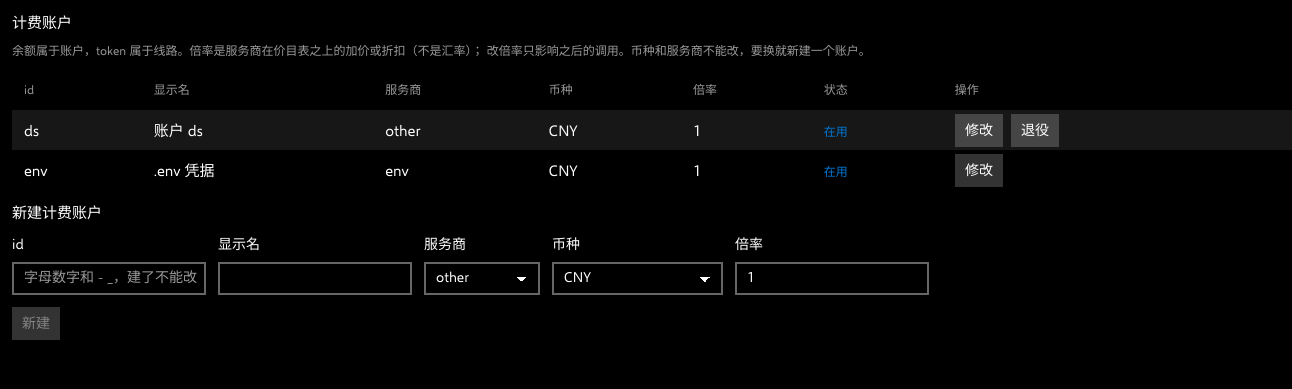
计费账户 › 线路正用着时照服务端那句话说
Click the button "退役" at (1035, 130), box left=1011, top=114, right=1059, bottom=147
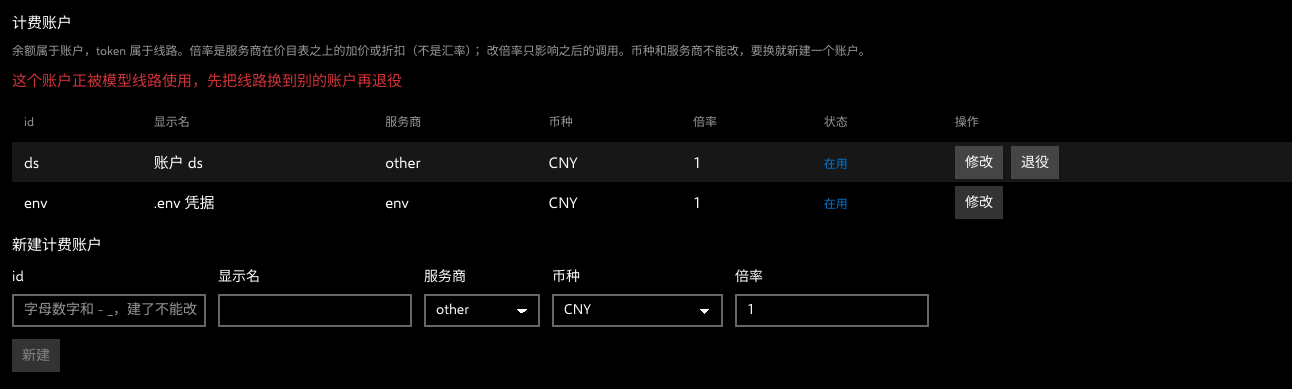
Result: the text "这个账户正被模型线路使用，先把线路换到别的账户再退役" is shown at left=12, top=71, right=402, bottom=89
